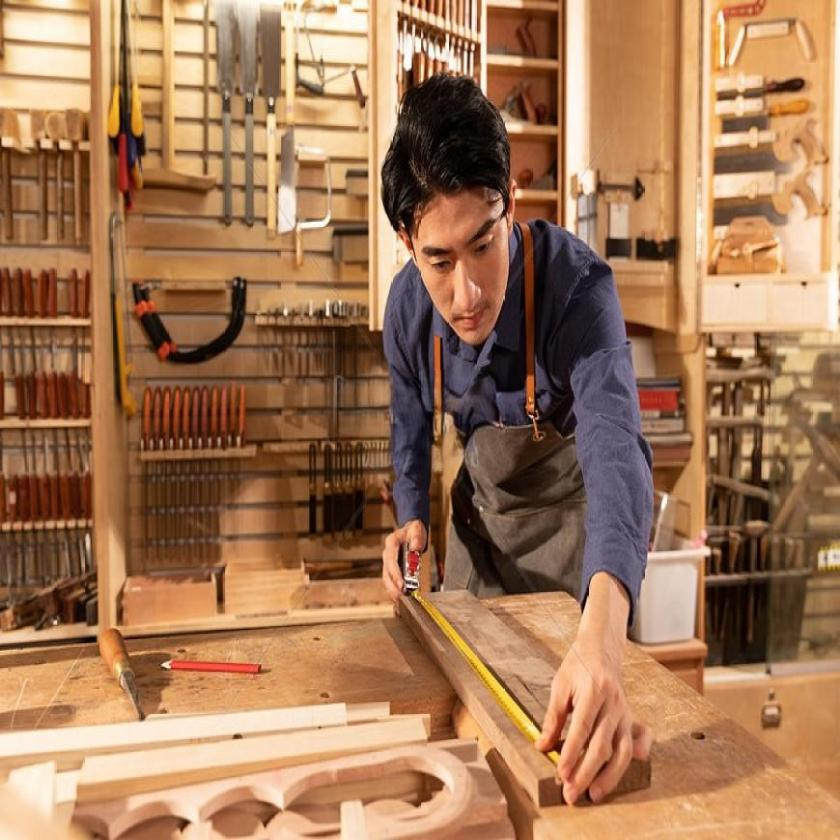Sin_casco: (375, 63, 519, 376)
